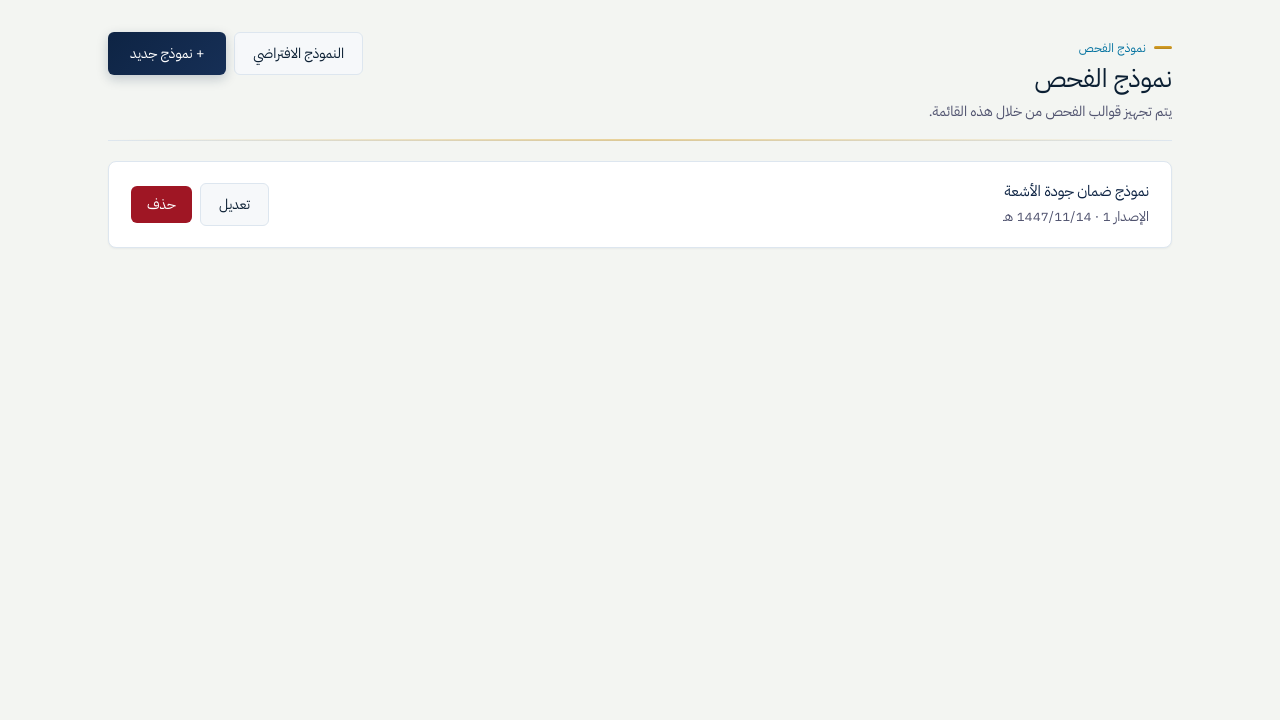
TemplateBuilder delete confirmation › does NOT delete on the first click -- it asks first
The image size is (1280, 720).
Click the button "حذف": {"x": 161, "y": 204} [131,186,192,223]
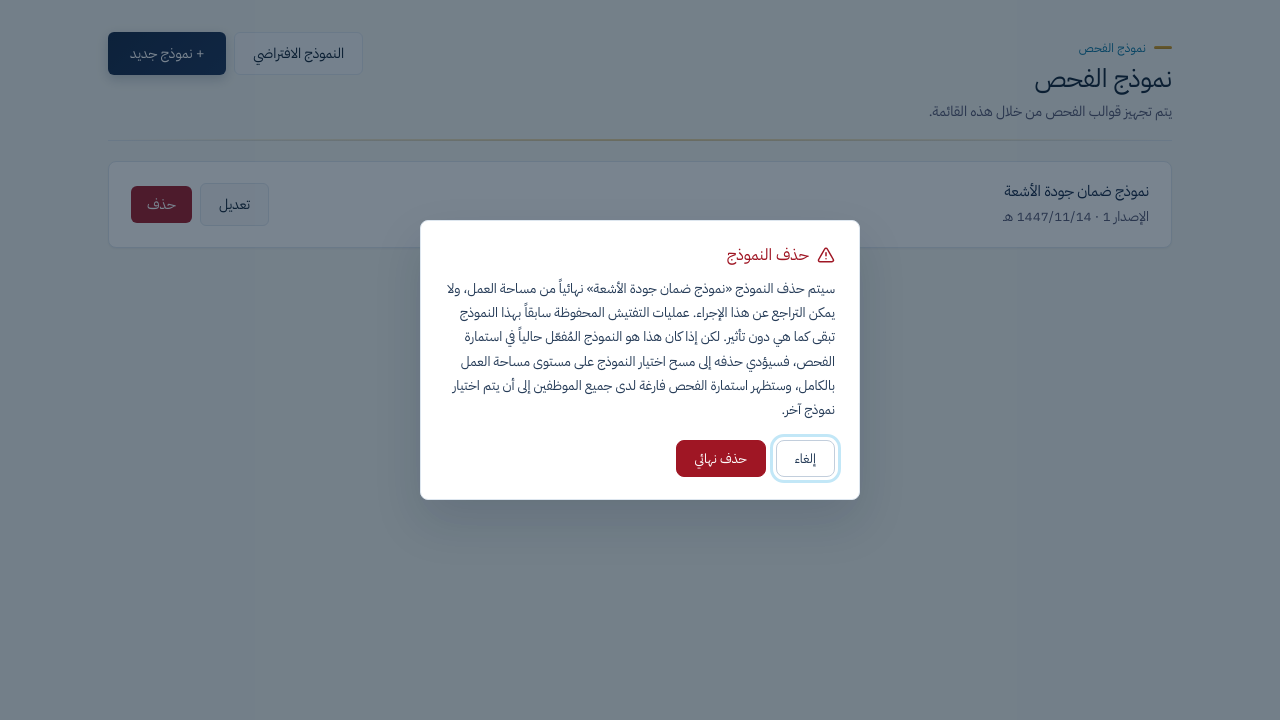
Expected: the text "سيتم حذف النموذج «" is shown, [447,278,835,420]
